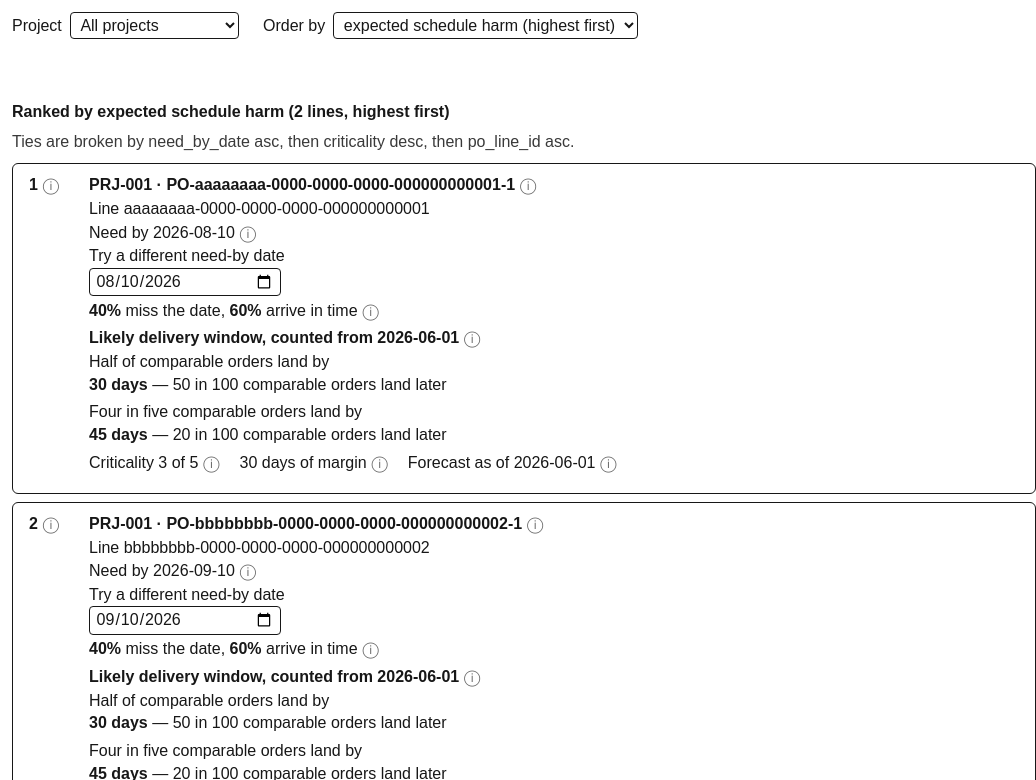
Test: scoping and sorting › says so rather than leaving a stale list when a re-query fails
The image size is (1036, 780).
Select "PRJ-002 (0 open)" in the dropdown labelled "Project" at (154, 26), box x1=70 y1=12 x2=239 y2=39
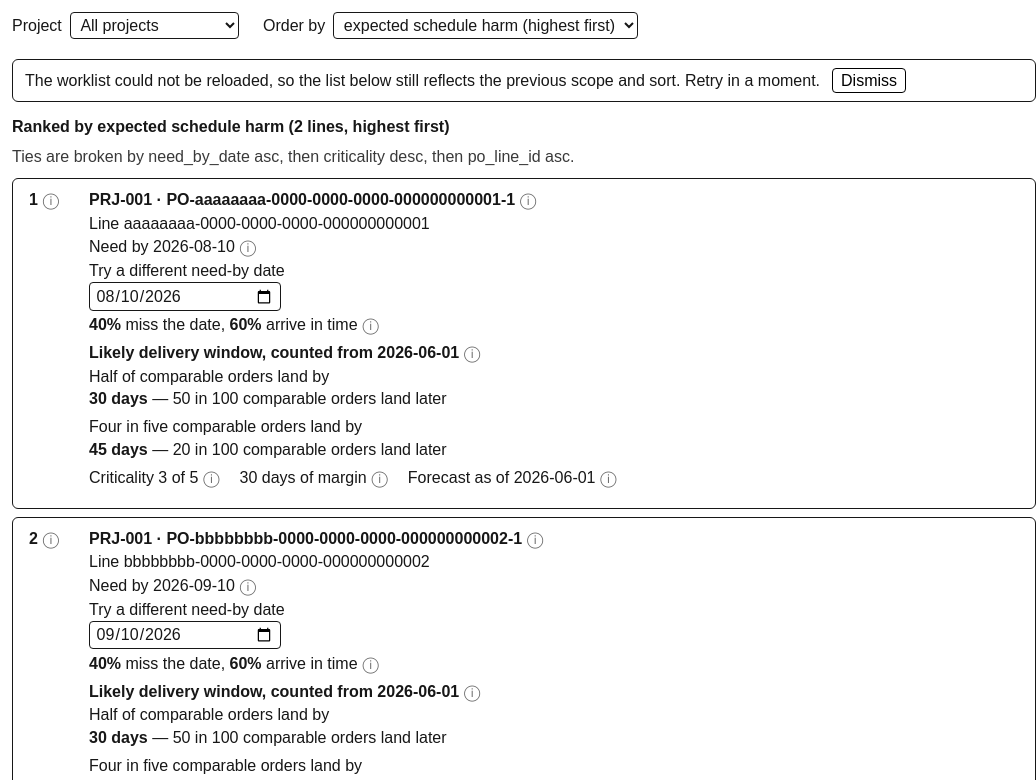
expect the message named "Adjustment status" shows "could not be reloaded": met, box x1=25 y1=72 x2=820 y2=89
